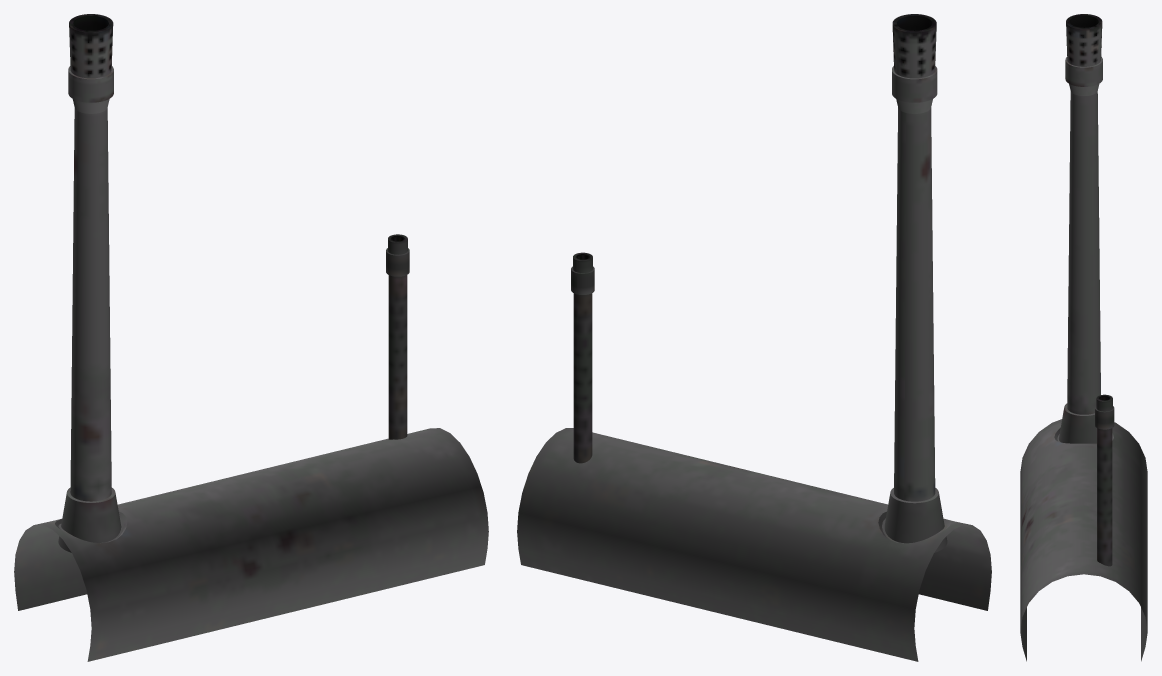
Rendered from Gun_07.glb.
The picture shows the model from 3 angles, left to right: view 1: azimuth 30°, elevation 25°; view 2: azimuth 150°, elevation 25°; view 3: azimuth 270°, elevation 25°; orthographic projection. The views are drawn at different scales.
Visible parts, largest first — view 1: set_0_group_0; view 2: set_0_group_0; view 3: set_0_group_0.
Boxes of the visible parts, box(x1,y1,x2,y2) form: set_0_group_0: box(14, 14, 488, 661); set_0_group_0: box(517, 14, 991, 661); set_0_group_0: box(1020, 14, 1147, 661).
Size of the model in its own units: 0.7421 by 1.08 by 0.2509.
Materials: 1 (1 with a texture image).
